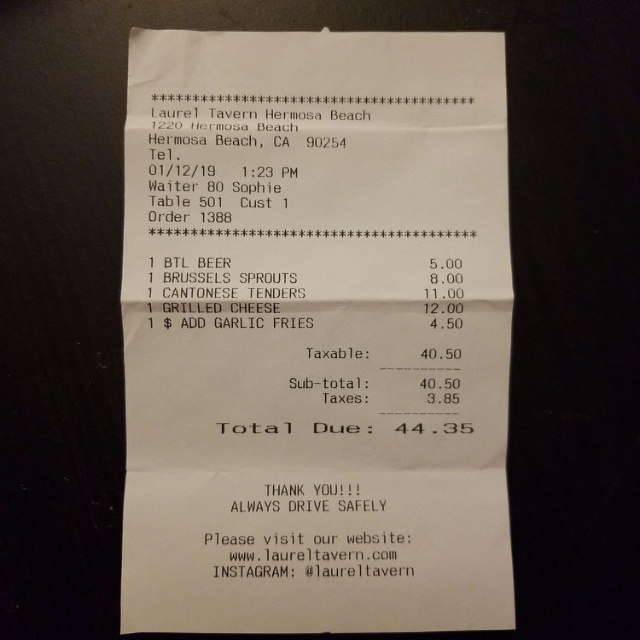invoice_table: (145, 256, 465, 331)
invoice_title: (148, 108, 371, 148)
invoice_total: (218, 421, 474, 436)
